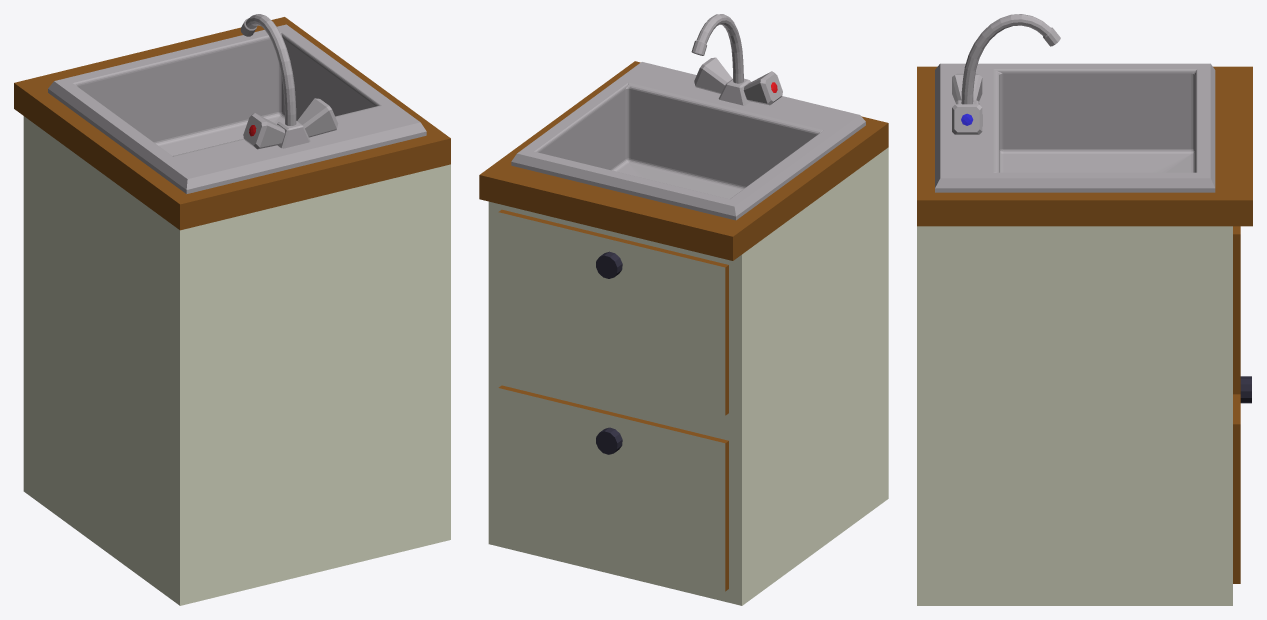
The model's file is evier.fbx.
3 views of the same model, side by side, from view 1: azimuth 30°, elevation 25°; view 2: azimuth 150°, elevation 25°; view 3: azimuth 270°, elevation 25° (orthographic). The views are drawn at different scales.
Parts seen in each view (by area): view 1: evier; view 2: evier; view 3: evier.
Boxes of the visible parts, x1,y1,x2,y2 form: evier: (14, 14, 450, 605); evier: (479, 14, 888, 605); evier: (917, 14, 1252, 605).
Size of the model in its own units: 60 by 110 by 63.75.
